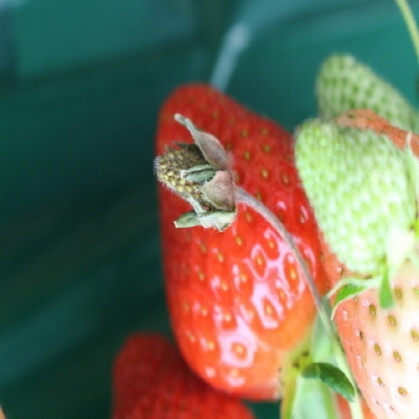Gray_Mold: (152, 185, 266, 306)
